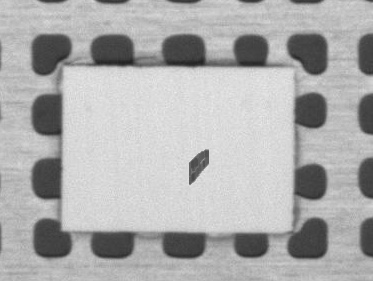DIE_INK: (187, 147, 210, 186)
